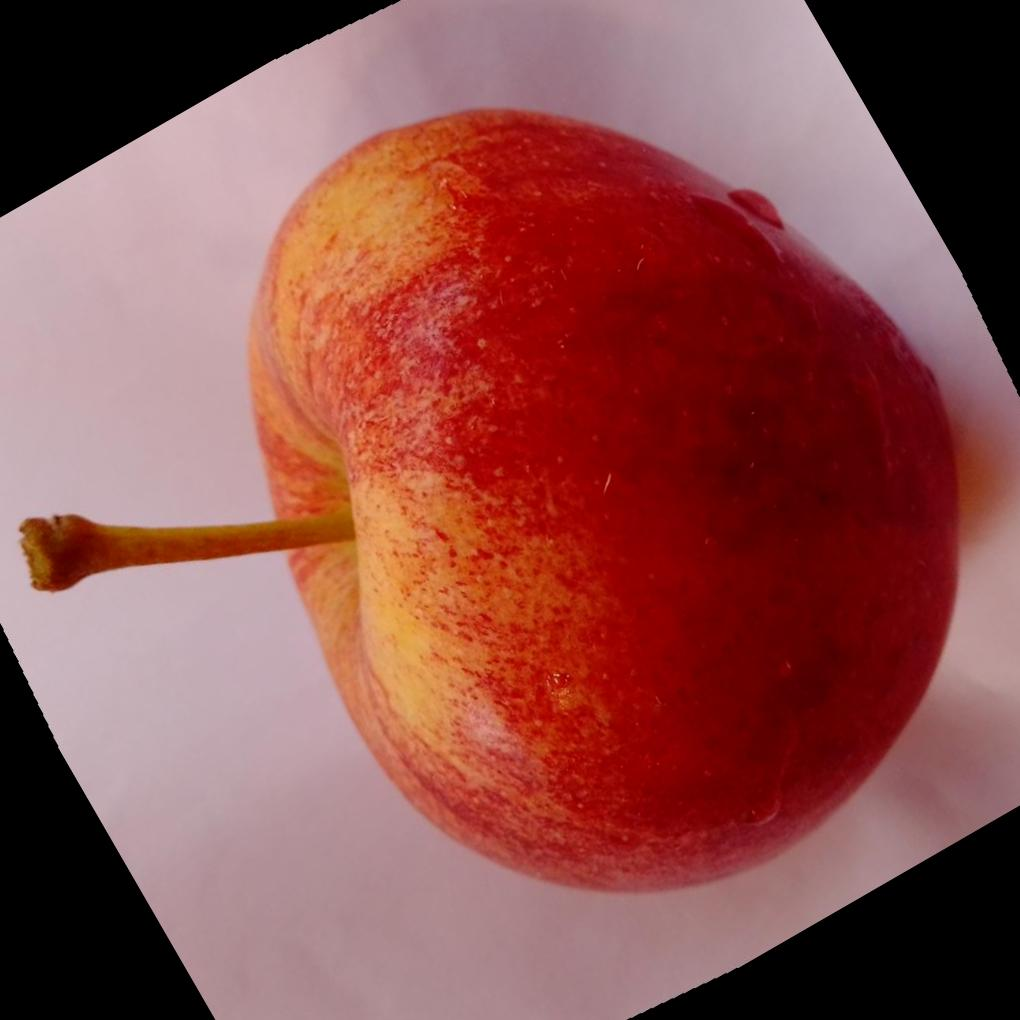FreshGuava: (245, 103, 966, 892)
